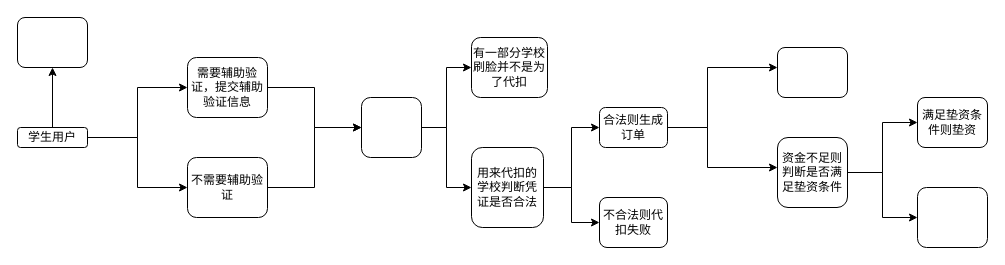
This 1005x265 diagram has some shape labels left out. Each missing label, with the centre of its shape:
"不满足垫资条件则垫资失败" goes at (x=952, y=217).
"机器生成刷脸凭证" goes at (x=391, y=127).
"被学校收集刷脸信息" goes at (x=52, y=42).
"资金充足则直接扣款" goes at (x=812, y=72).
